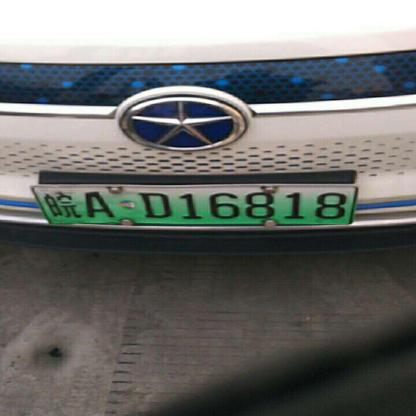lp: (32, 186, 49, 222)
